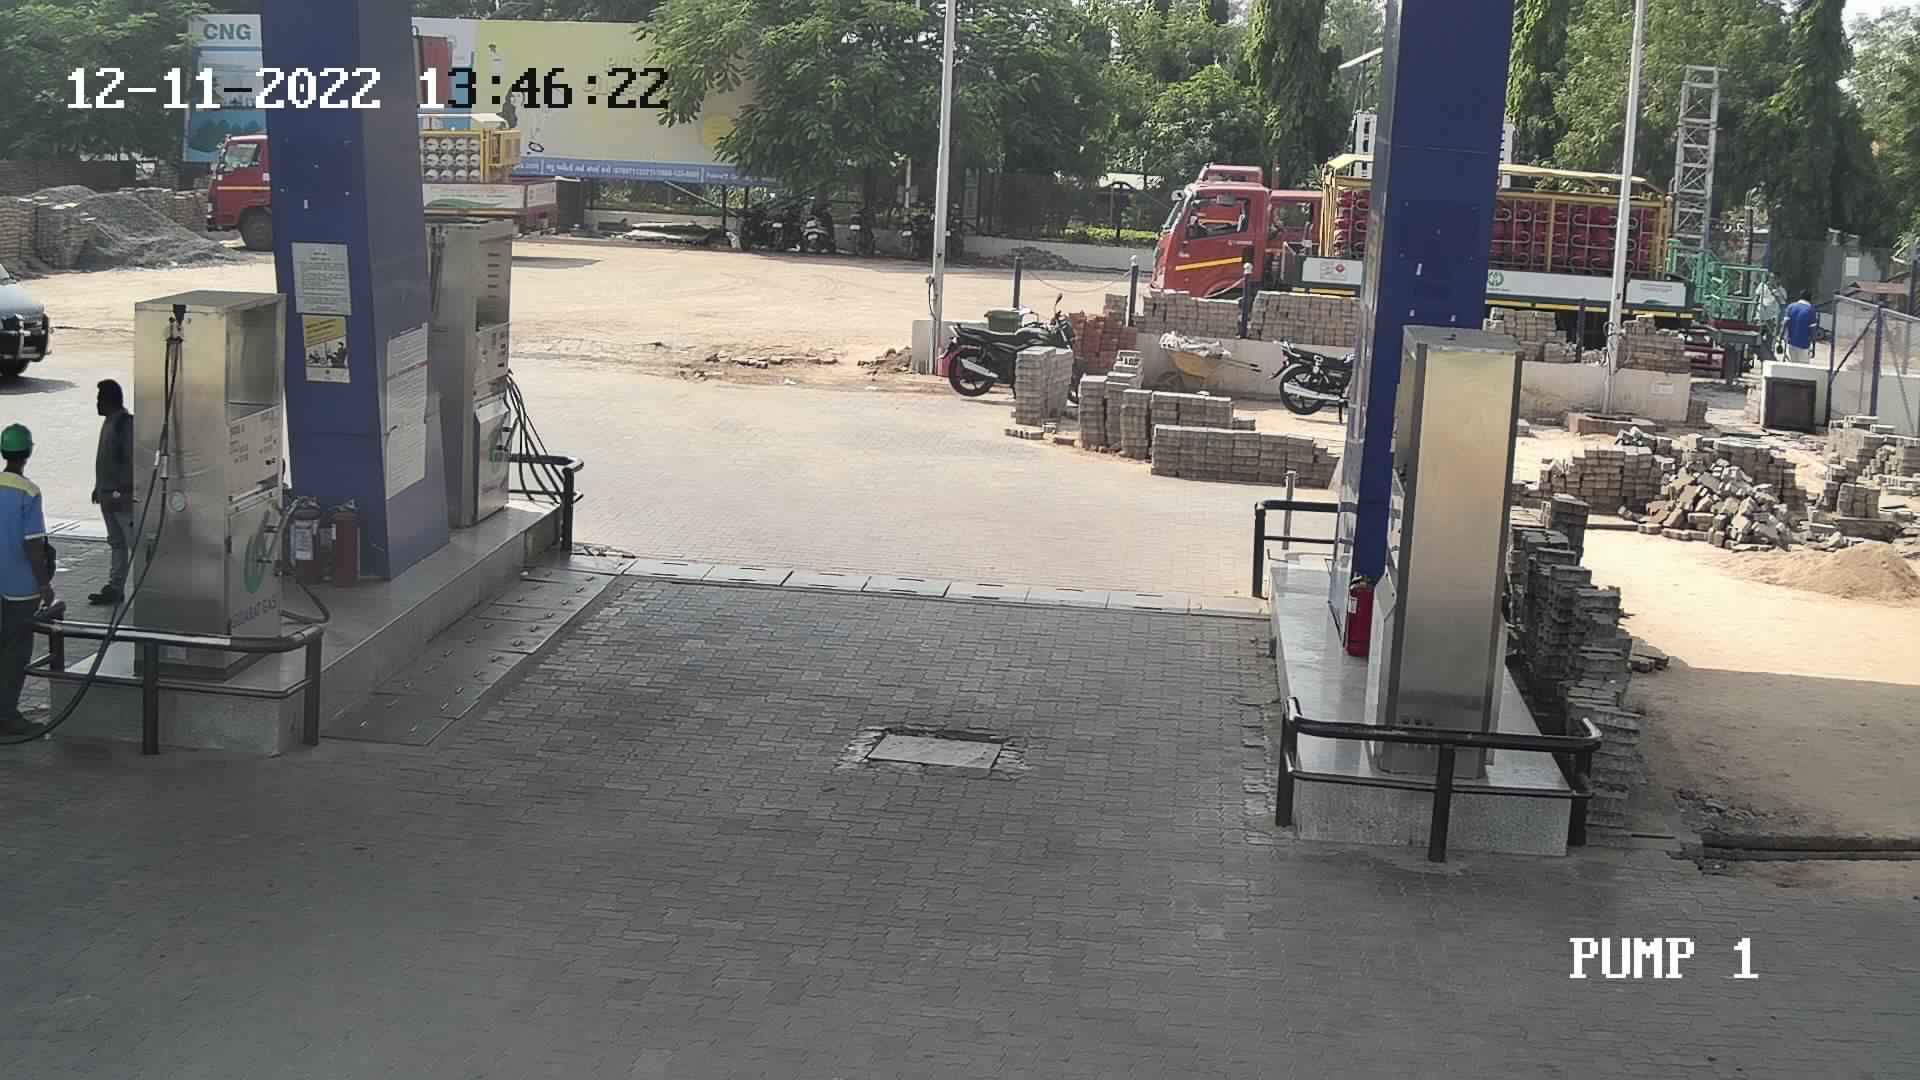Bike: (938, 285, 1100, 413), (1265, 334, 1356, 431), (837, 187, 887, 258), (893, 187, 936, 266), (796, 186, 845, 255), (767, 186, 816, 253), (736, 186, 785, 252), (940, 191, 968, 269)
Car: (0, 214, 59, 398)
HMV: (1142, 146, 1375, 345), (1183, 100, 1379, 266), (411, 83, 570, 248)
Others: (1, 401, 65, 746)
